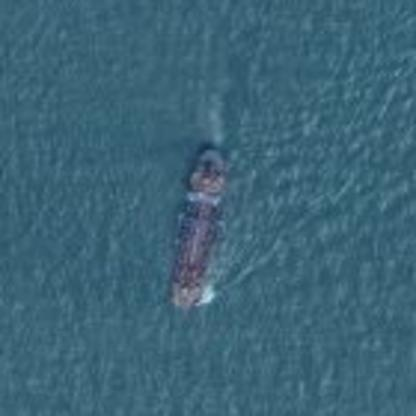ship: (154, 143, 233, 316)
